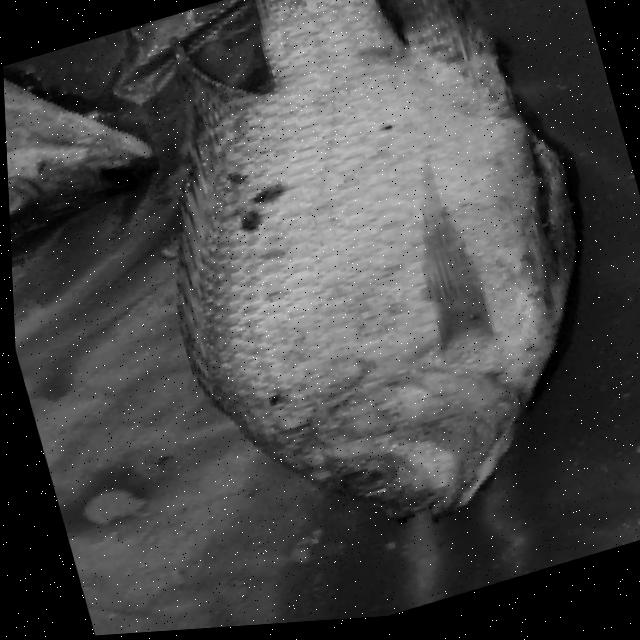Non-Fresh: (116, 0, 640, 597), (5, 154, 46, 242)
